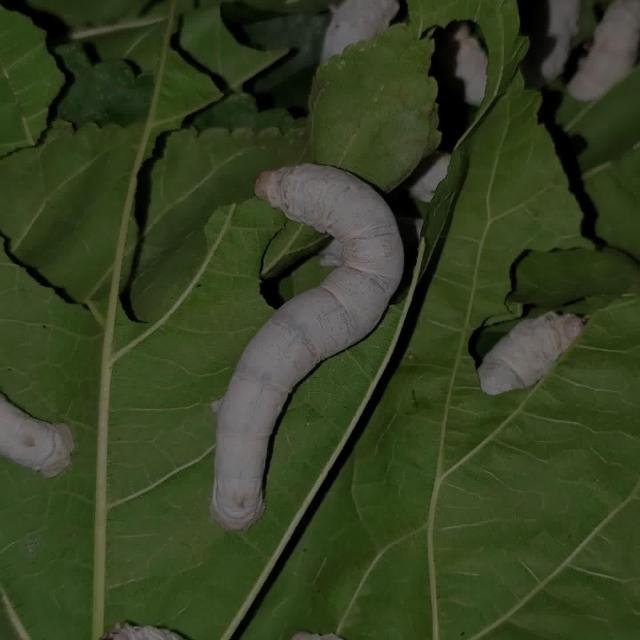Healthy: (193, 132, 420, 543)
